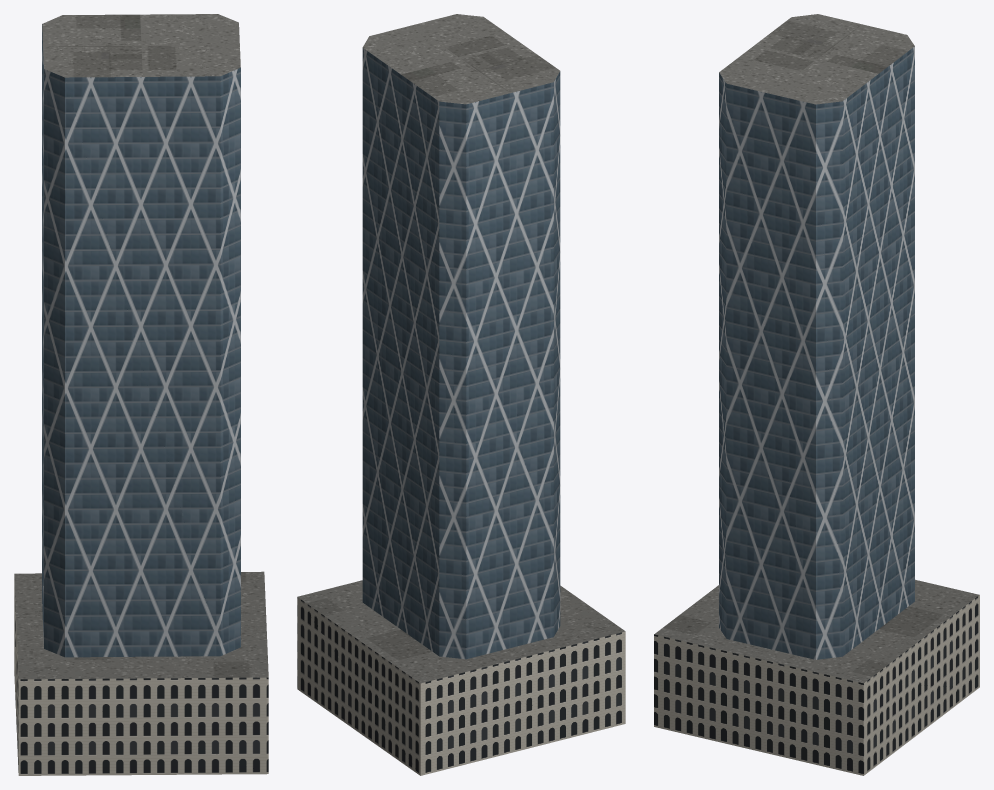
Rendered from hearst.glb.
The picture shows the model from 3 angles, left to right: view 1: azimuth 30°, elevation 25°; view 2: azimuth 150°, elevation 25°; view 3: azimuth 270°, elevation 25°; orthographic projection. The views are drawn at different scales.
Parts seen in each view (by area): view 1: hearst; view 2: hearst; view 3: hearst.
Part boxes in pixels (x1=…): hearst: x1=14, y1=14, x2=268, y2=775; hearst: x1=297, y1=14, x2=625, y2=775; hearst: x1=654, y1=14, x2=979, y2=775.
Size of the model in its own units: 82.93 by 182 by 82.93.
4 materials, 4 textured.
